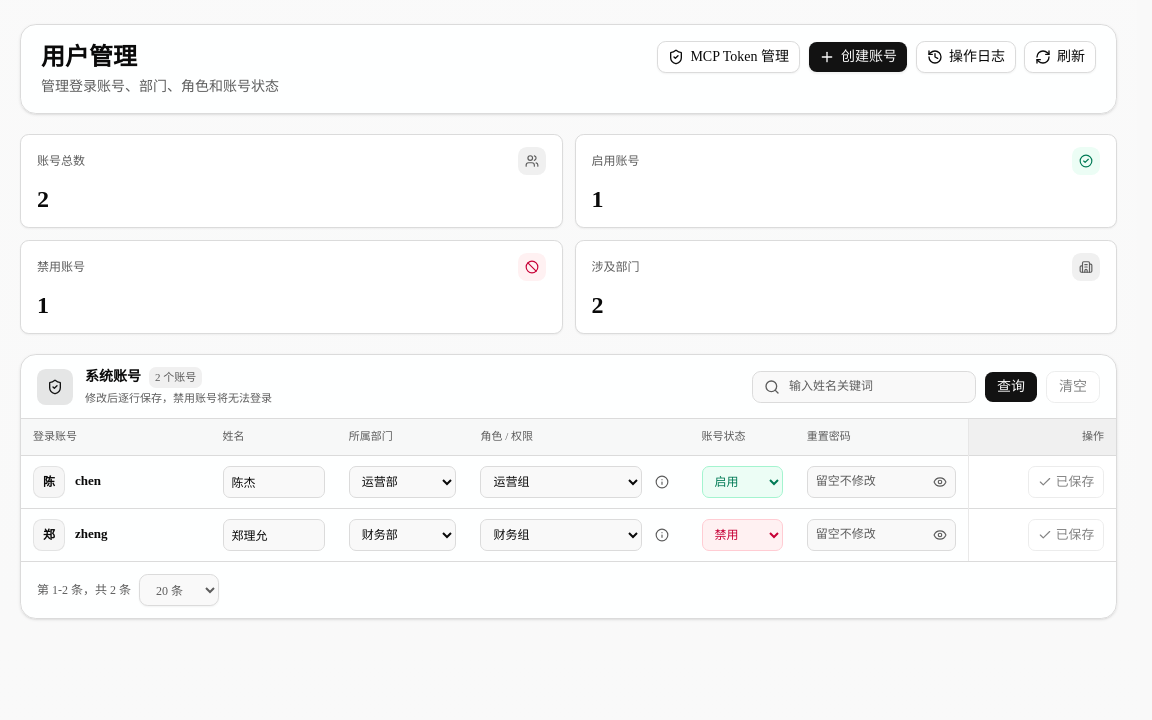
Test: shows full role descriptions on demand without making rows taller
Expected: the button "查询" is enabled, x1=984 y1=370 x2=1038 y2=402
Expected: the text "维护商品档案，查看和导出商品档案、精细表及采购单" is not shown
Click the button named "查看 chen 的角色权限" at (662, 482), box x1=646 y1=466 x2=678 y2=498
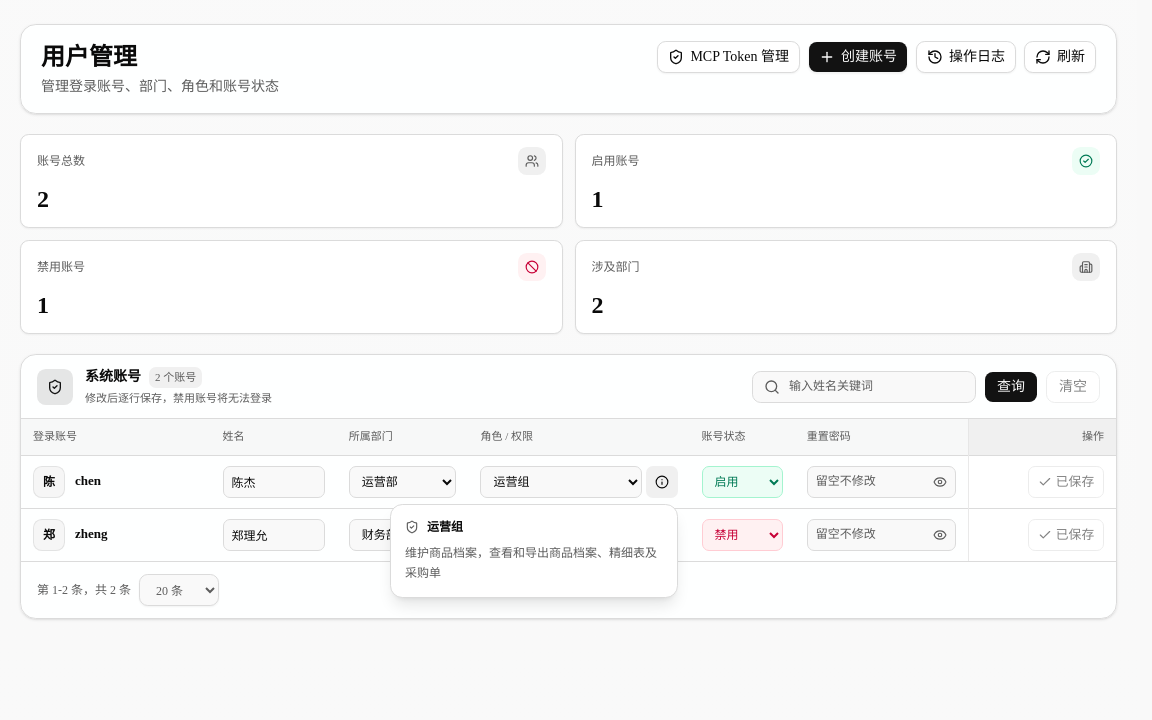
Now the dialog named "角色权限说明" shows "运营组", box x1=427 y1=520 x2=463 y2=534
Now the dialog named "角色权限说明" shows "维护商品档案，查看和导出商品档案、精细表及采购单", box x1=405 y1=546 x2=657 y2=580
Press Escape
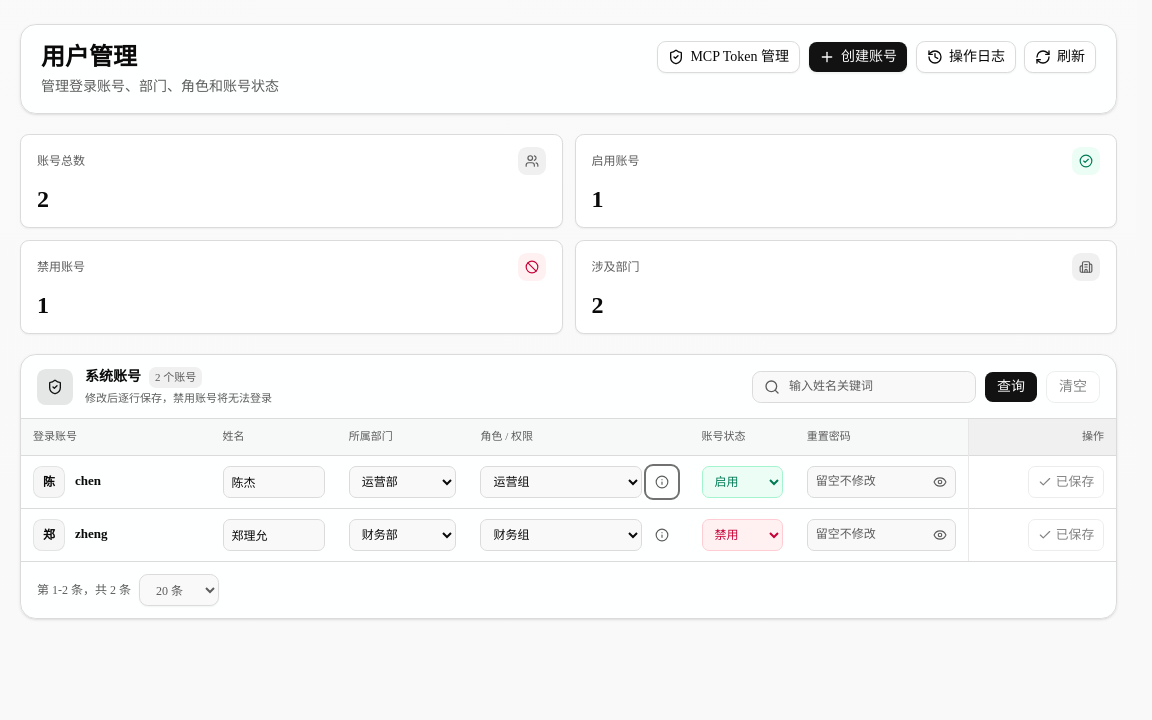
Now the dialog "角色权限说明" is gone
